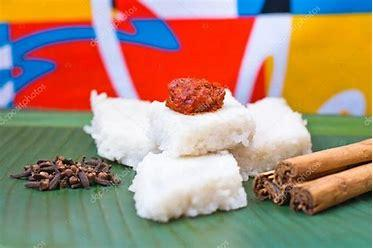Kiribath: (105, 87, 277, 220)
Lunu sambol: (159, 66, 235, 122)
